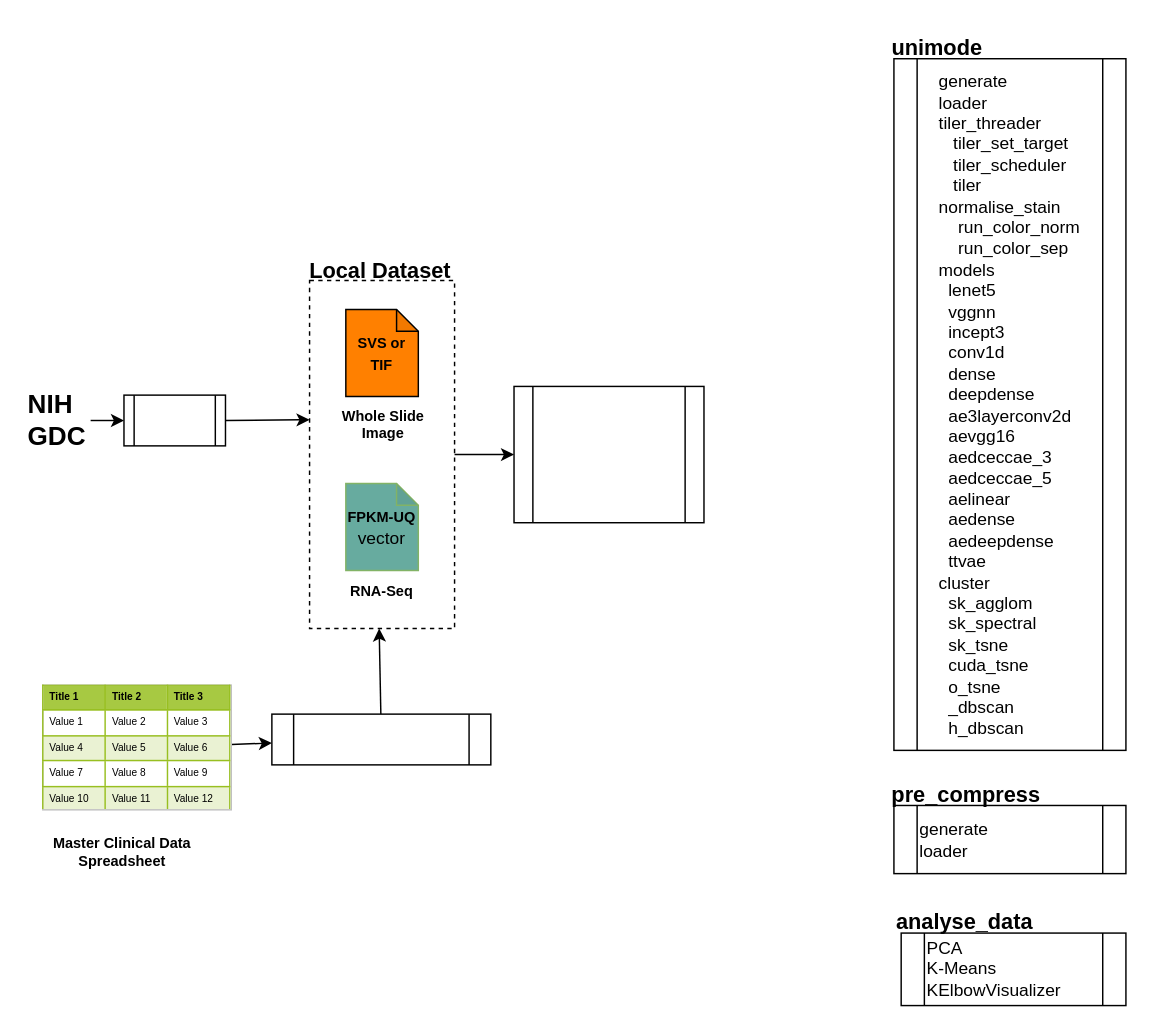
Image size: 1151x1031. Some labels were removed from this diagram. The shapes that lost their labels are listed below. From the top down, each one's centre as x and y in pixels, then its label:
the point at 174,420: gdc_fetch
the point at 608,454: process_classes reduce_FPKM_UQ process_rna_exp
the point at 380,739: create_master_mapping
